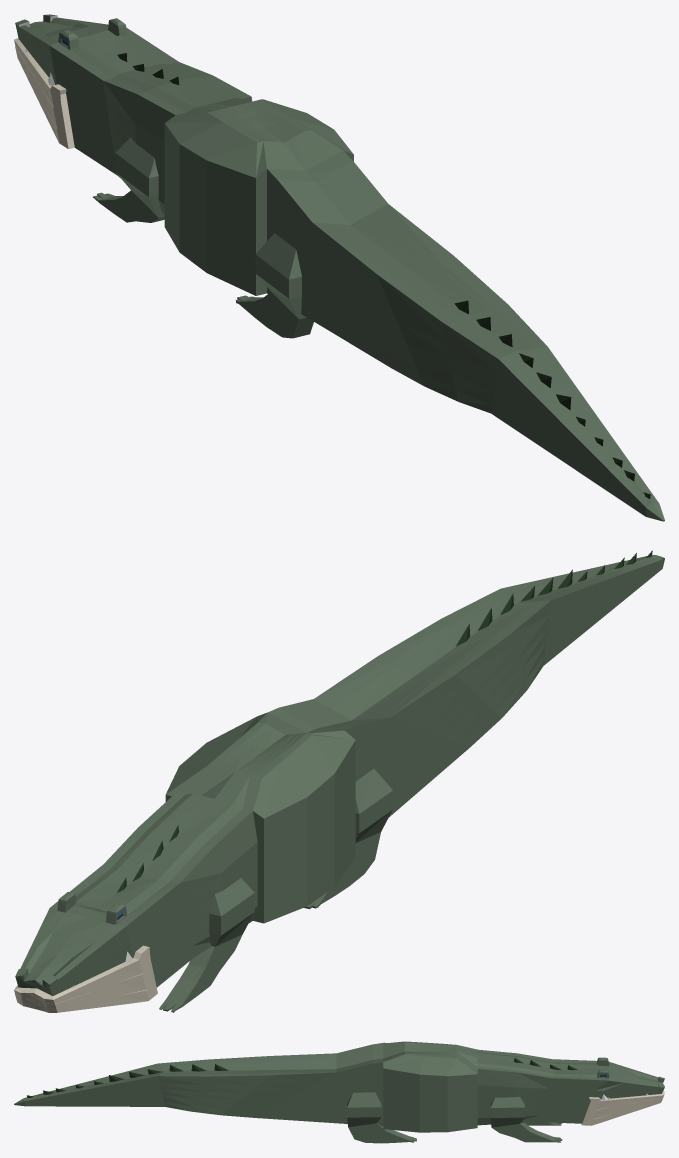
File: hallie_crocodile.fbx
3 views of the same model, one above another, from view 1: azimuth 30°, elevation 25°; view 2: azimuth 150°, elevation 25°; view 3: azimuth 270°, elevation 25° (orthographic). The views are drawn at different scales.
Visible parts, largest first — view 1: m_croc; view 2: m_croc; view 3: m_croc.
Part boxes in pixels (x1,y1,x2,y2): m_croc: (14,14,664,521); m_croc: (14,550,664,1012); m_croc: (14,1041,664,1143).
Bounding box in the file's own units: 0.5951 × 0.7344 × 5.1.
